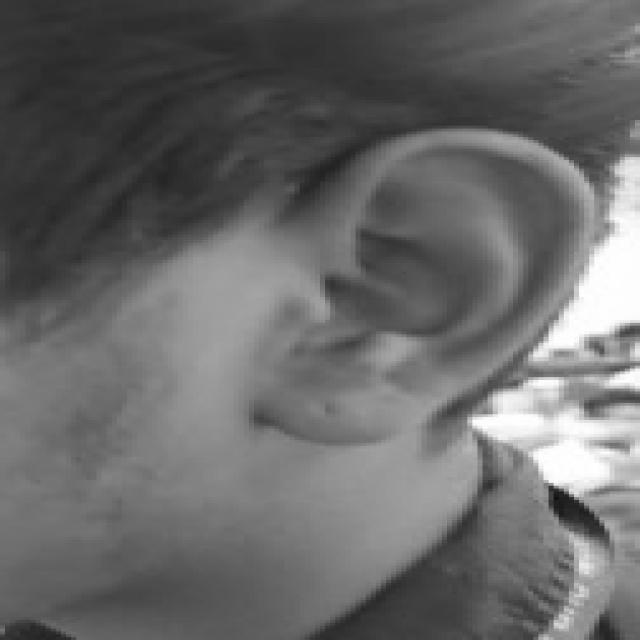ear: (254, 126, 584, 440)
